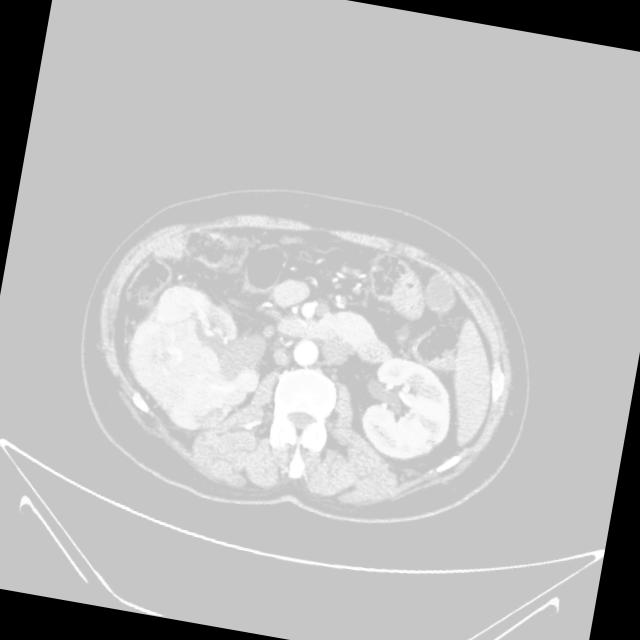TUMOR: (42, 195, 440, 489)
